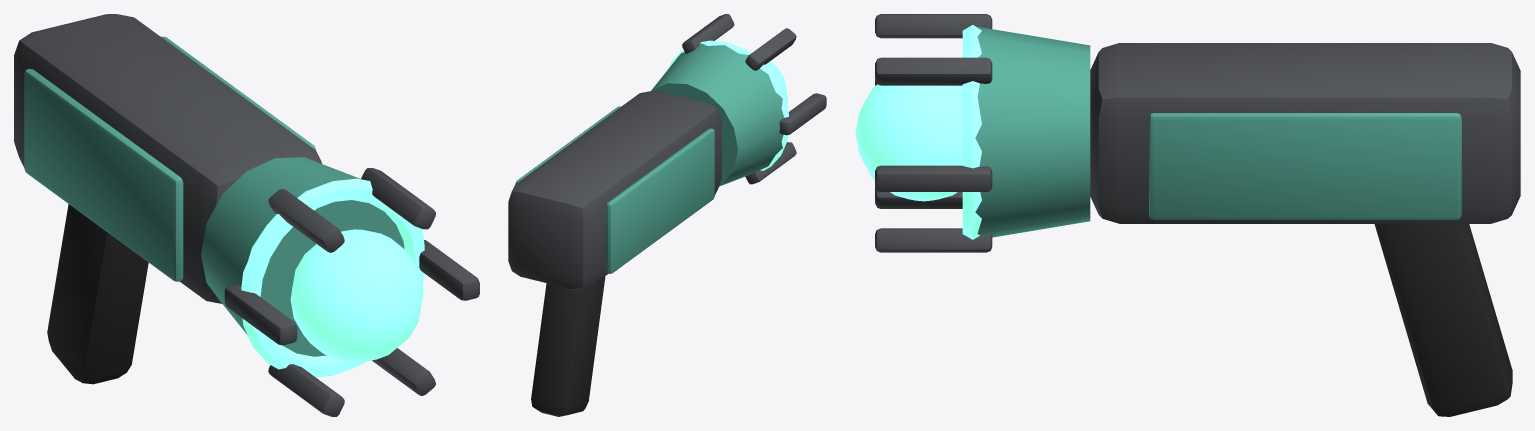
Rendered from manipulator.glb.
The picture shows the model from 3 angles, left to right: view 1: azimuth 30°, elevation 25°; view 2: azimuth 150°, elevation 25°; view 3: azimuth 270°, elevation 25°; orthographic projection. The views are drawn at different scales.
Parts seen in each view (by area): view 1: manipulator; view 2: manipulator; view 3: manipulator.
Part boxes in pixels (<box>): manipulator: <box>14,14,479,416</box>; manipulator: <box>508,14,826,416</box>; manipulator: <box>855,14,1520,416</box>.
Bounding box in the file's own units: 0.122 × 0.212 × 0.34.
